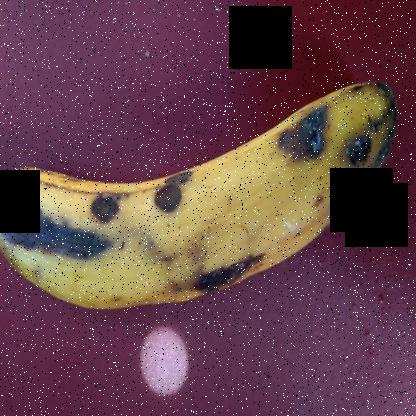ripe: (0, 91, 380, 325)
rotten: (282, 54, 413, 259)
